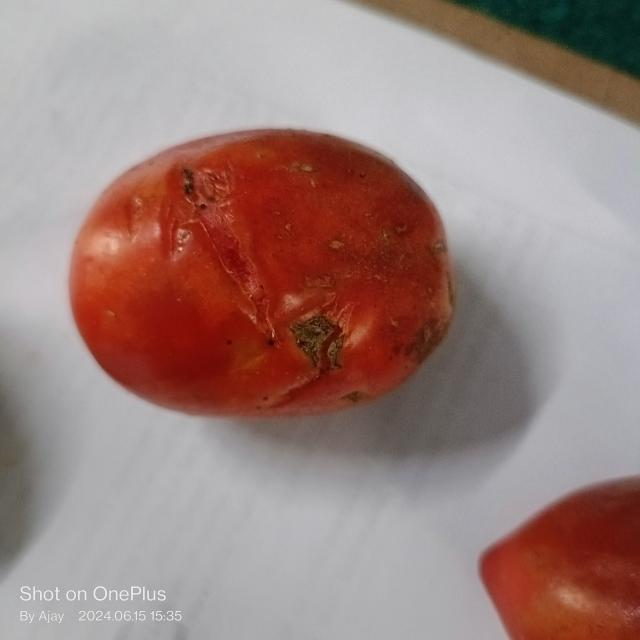Botrytis: (292, 312, 342, 370), (176, 166, 218, 210), (407, 326, 436, 355), (168, 229, 195, 256), (360, 264, 389, 279), (388, 224, 408, 242), (326, 238, 345, 252)
